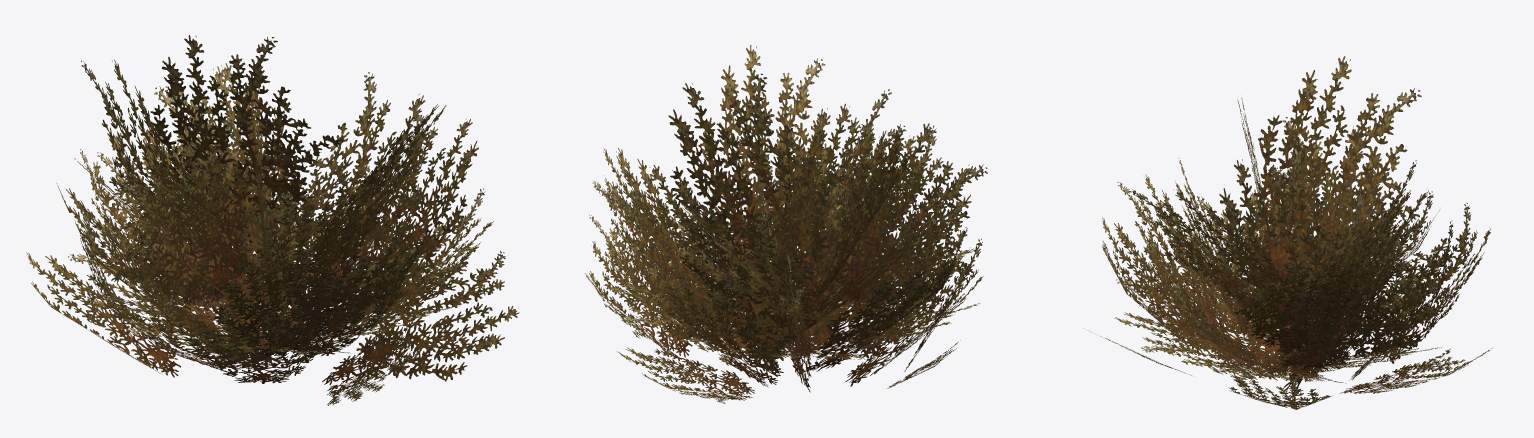
Rendered from wm_灌木大灌木16.fbx.
3 views of the same model, side by side, from view 1: azimuth 30°, elevation 25°; view 2: azimuth 150°, elevation 25°; view 3: azimuth 270°, elevation 25° (orthographic). The views are drawn at different scales.
Visible parts, largest first — view 1: wm_灌木大灌木16; view 2: wm_灌木大灌木16; view 3: wm_灌木大灌木16.
Boxes of the visible parts, x1,y1,x2,y2 form: wm_灌木大灌木16: (26, 35, 519, 405); wm_灌木大灌木16: (585, 45, 987, 403); wm_灌木大灌木16: (1083, 56, 1492, 409).
Bounding box in the file's own units: 258 × 207 × 255.
